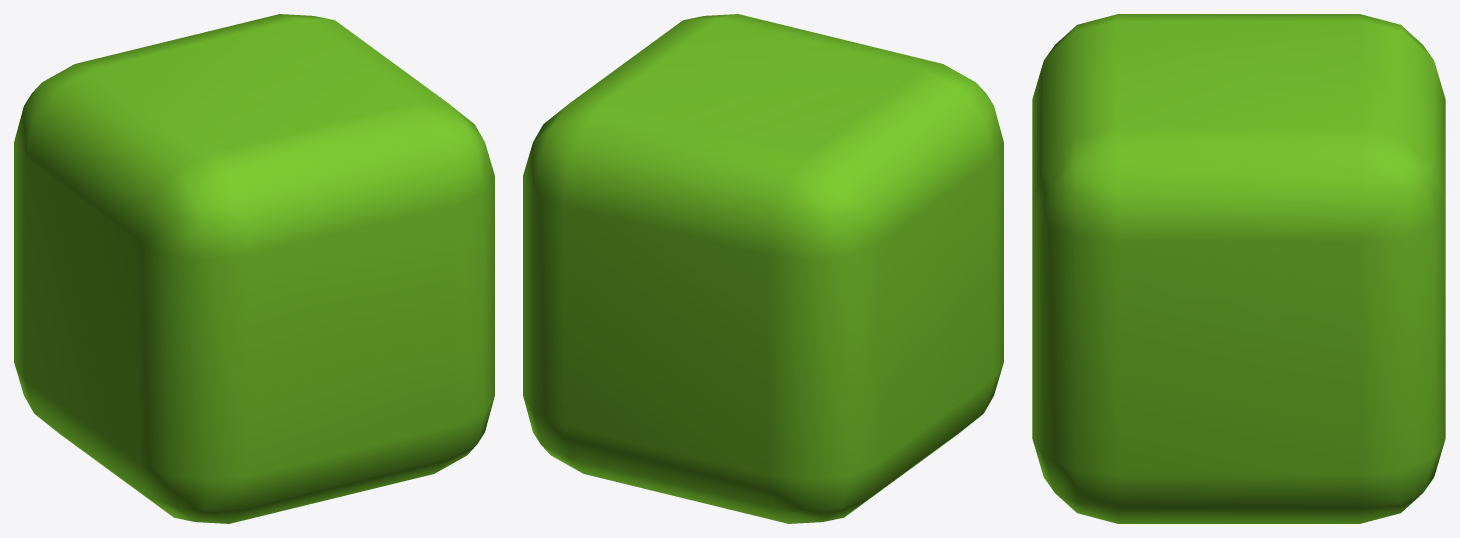
Rendered from jello-cube.glb.
3 renders of one model, left to right at view 1: azimuth 30°, elevation 25°; view 2: azimuth 150°, elevation 25°; view 3: azimuth 270°, elevation 25°, orthographic. The views are drawn at different scales.
Visible parts, largest first — view 1: Lime jelly cube; view 2: Lime jelly cube; view 3: Lime jelly cube.
Boxes of the visible parts, x1,y1,x2,y2 form: Lime jelly cube: (14,14,494,523); Lime jelly cube: (523,14,1003,523); Lime jelly cube: (1032,14,1445,523).
Size of the model in its own units: 1.38 by 1.4 by 1.35.
